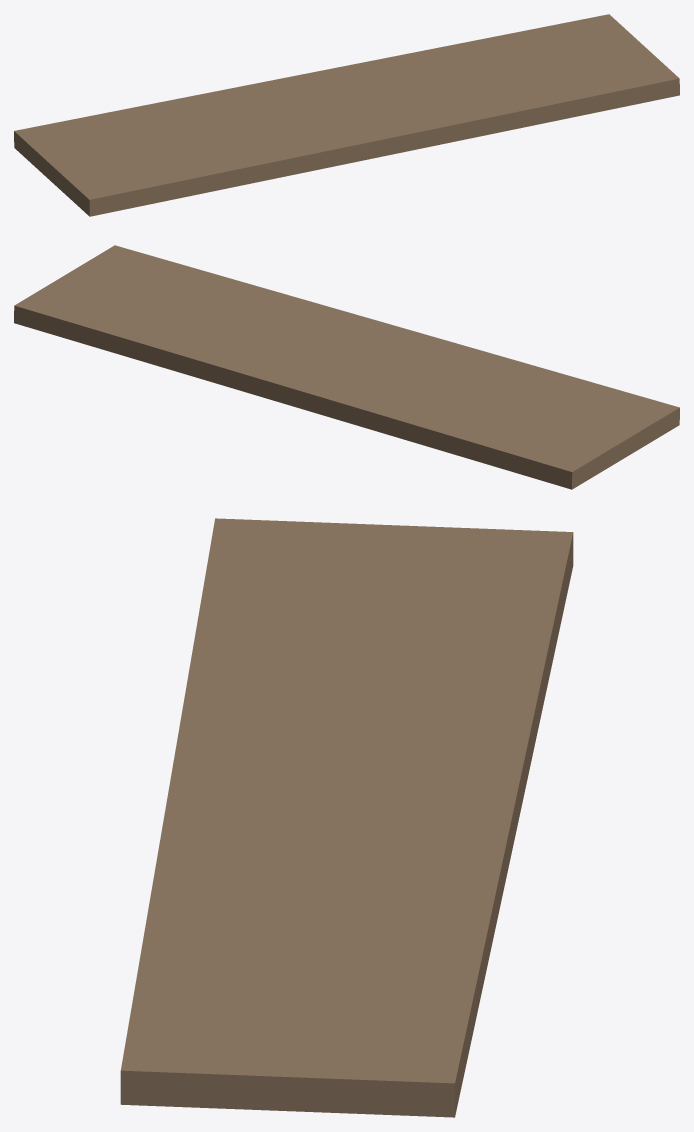
The model's file is walking_board_01.fbx.
3 views of the same model, one above another, from view 1: azimuth 30°, elevation 25°; view 2: azimuth 150°, elevation 25°; view 3: azimuth 270°, elevation 25° (orthographic). The views are drawn at different scales.
Parts seen in each view (by area): view 1: walking_board_01; view 2: walking_board_01; view 3: walking_board_01.
Part boxes in pixels (box(x1,y1,x2,y2)): walking_board_01: box(14, 14, 679, 216); walking_board_01: box(14, 245, 679, 489); walking_board_01: box(120, 518, 573, 1117).
Bounding box in the file's own units: 640 × 18.28 × 216.
